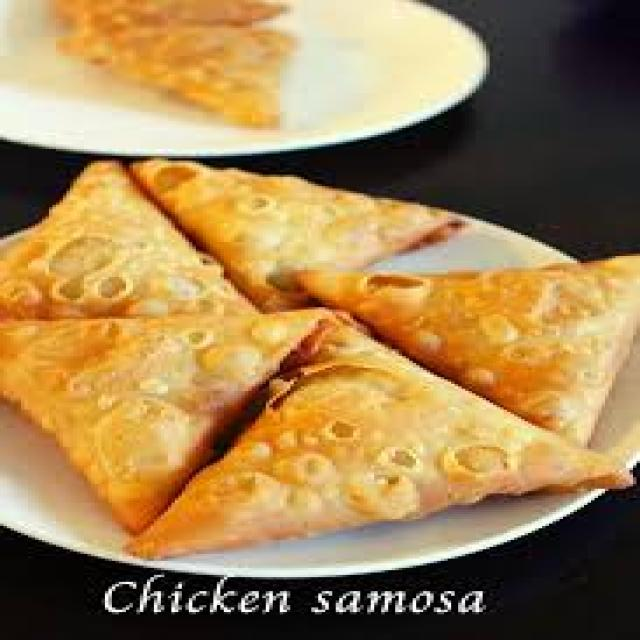SAMOSA: (126, 325, 637, 548), (1, 311, 339, 537), (310, 254, 637, 448), (135, 158, 463, 315)
